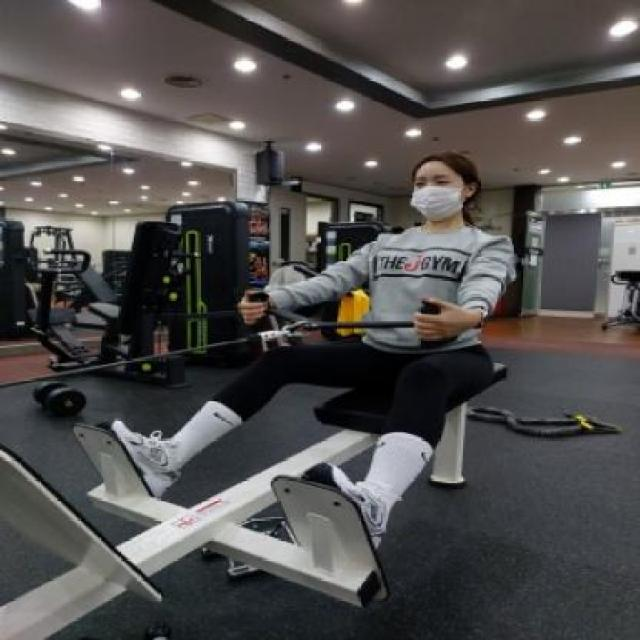Seated Cable Rows: (0, 87, 546, 640)
